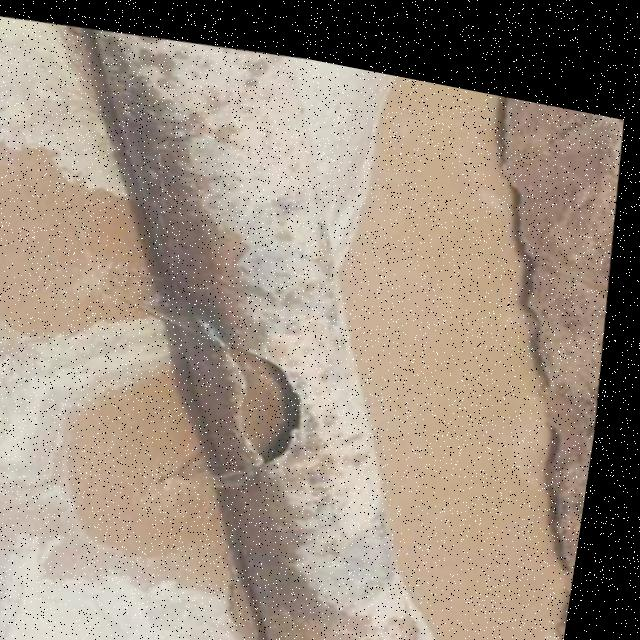rupture: (196, 309, 330, 479)
